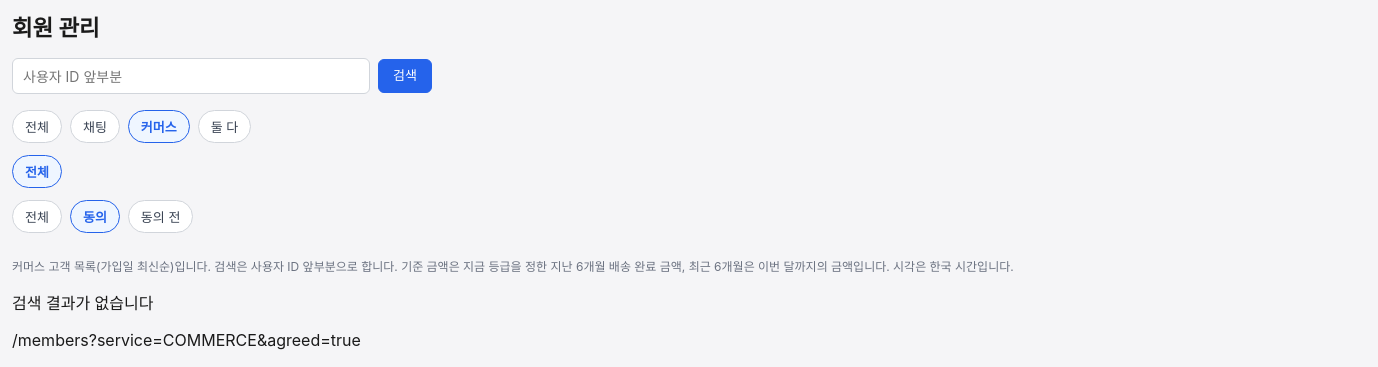
MembersPage › 이용 서비스 › leaving 커머스 drops the commerce sub-filters
The image size is (1378, 367).
Click the button "채팅" at (95, 126), box x1=70 y1=110 x2=120 y2=143
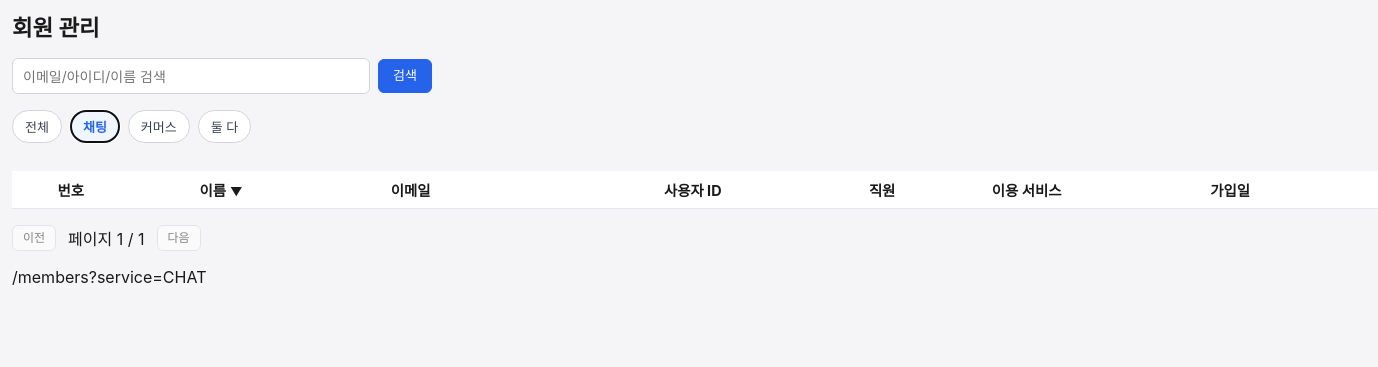
Check: the text with test id "location" reads "/members?service=CHAT", box x1=12 y1=267 x2=206 y2=287
